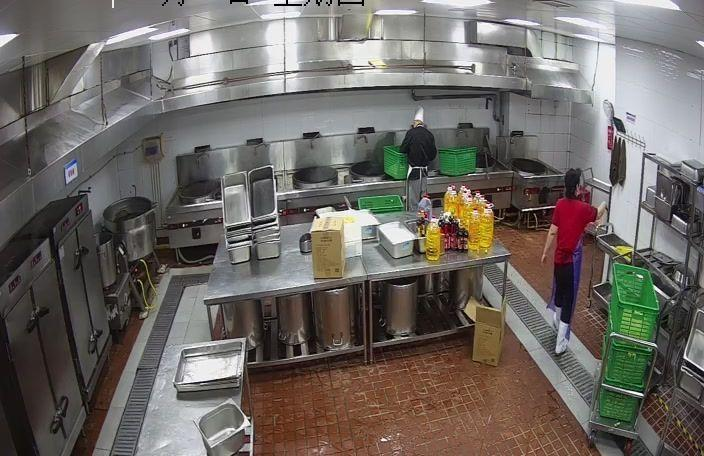no_apron: (539, 252, 550, 266)
